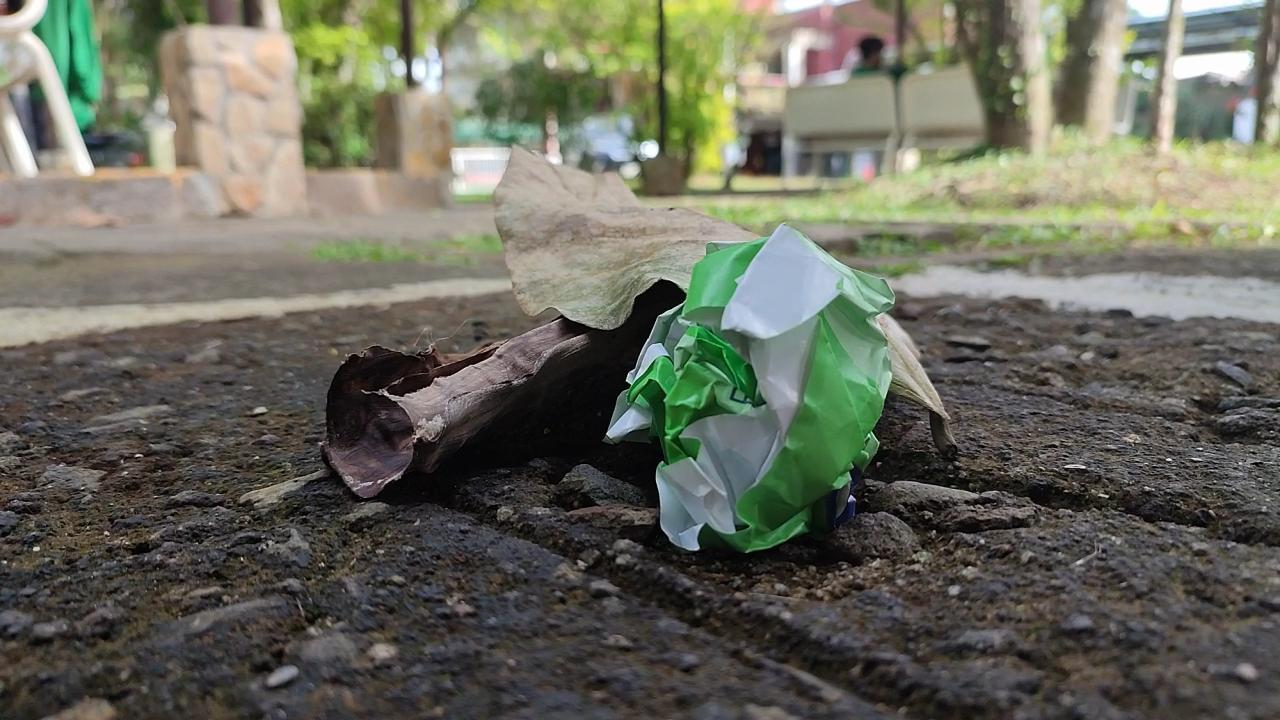Paper: (591, 197, 911, 570)
